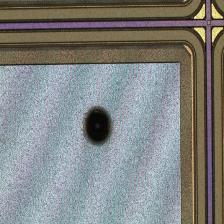PARTICLE: (82, 105, 114, 151)
